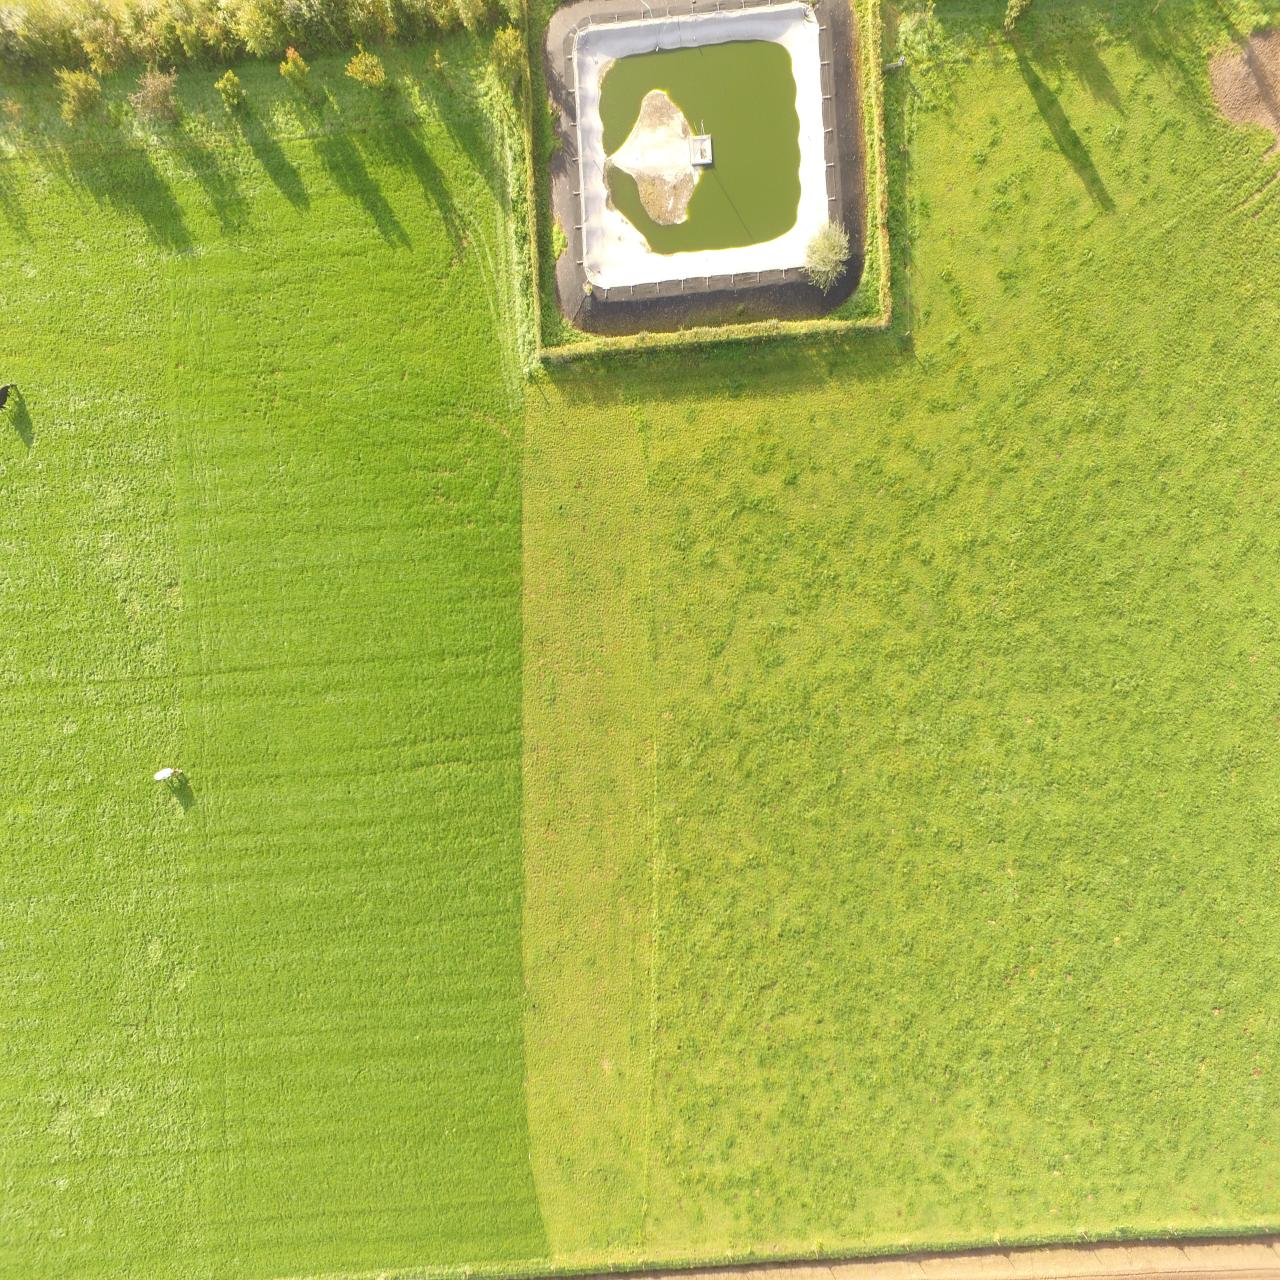cow: (154, 762, 186, 783)
